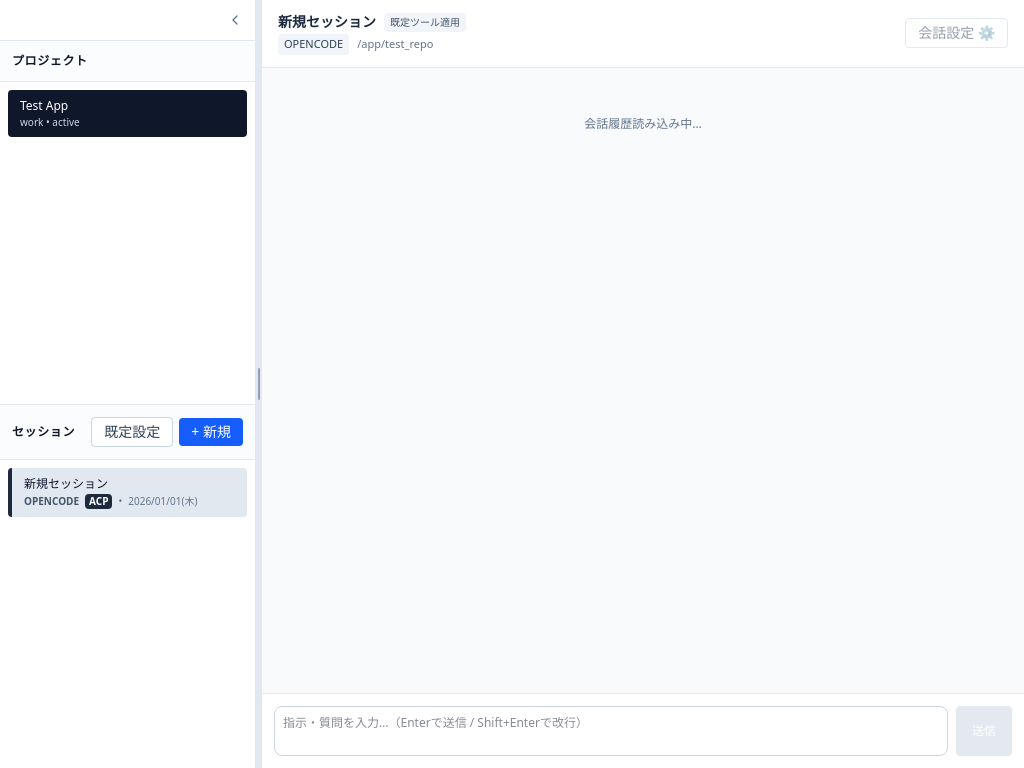
Test case: CodingPage › collapses left pane when collapse button is clicked and expands when expand button is clicked
The image size is (1024, 768).
Expected: the text "Test App" is shown, [20,97,68,114]
What coordinates should you click on to do the following:
click the button named "サイドバーを畳む"
I would click on:
 (235, 20)
Its box is [223,8,247,32].
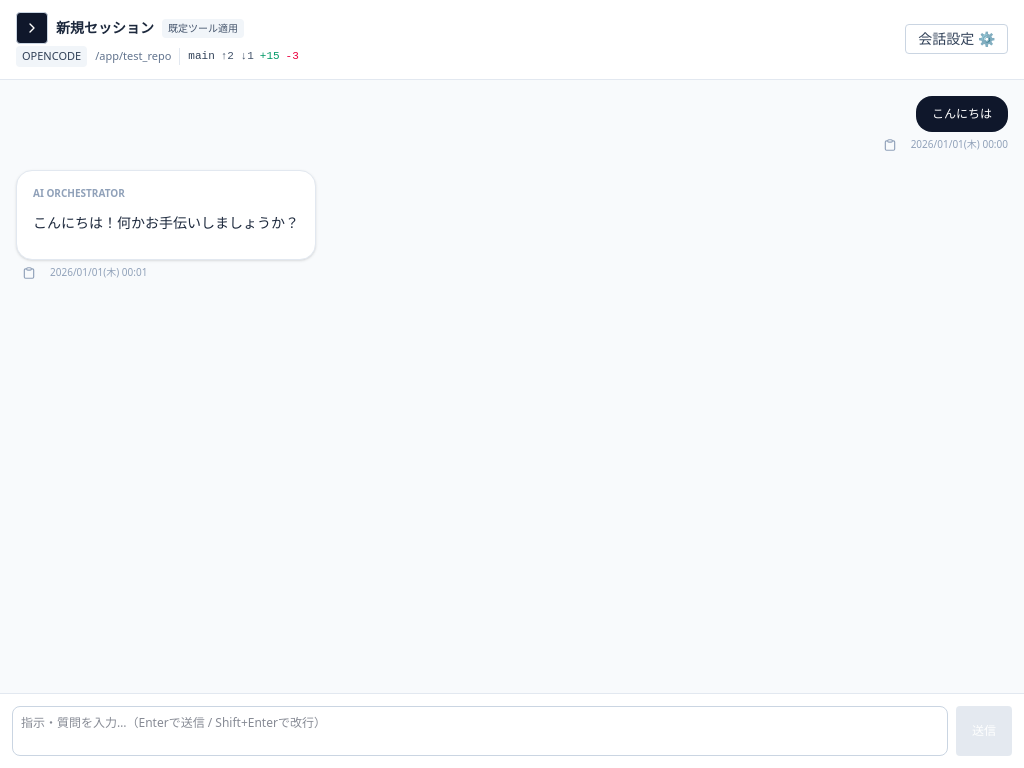
Now the heading "プロジェクト" is gone
What coordinates should you click on to do the following:
click the button named "サイドバーを展開"
I would click on:
 (32, 28)
Its box is [16,12,48,44].
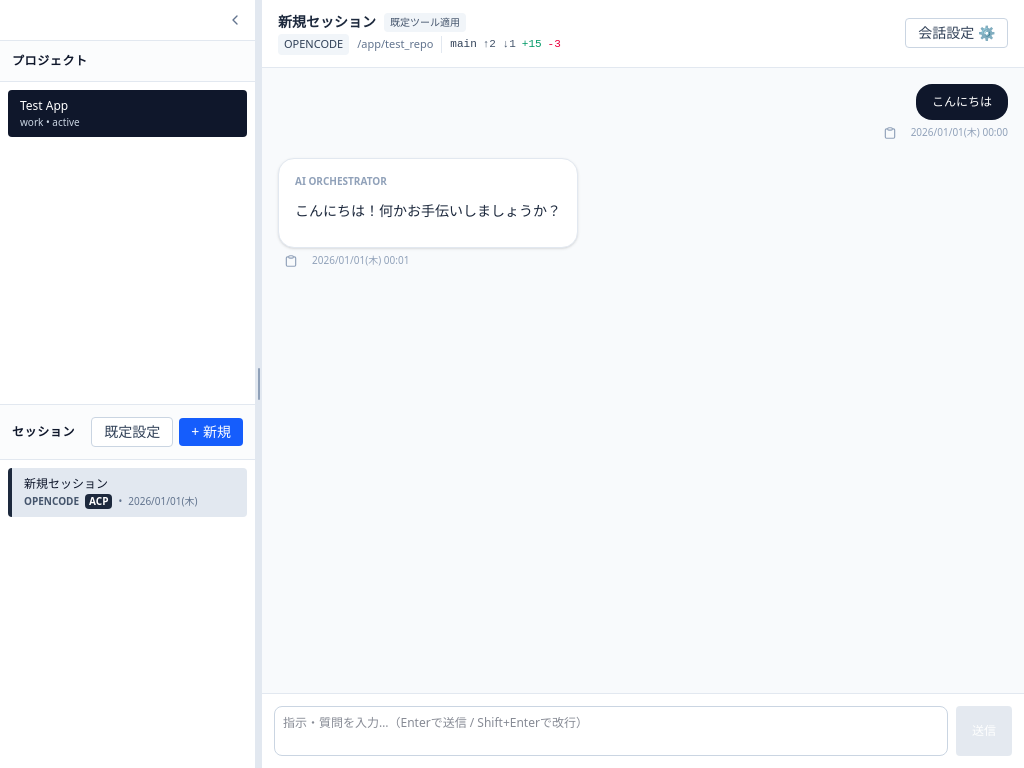
Now the heading "プロジェクト" is shown, box [12,53,88,69]
